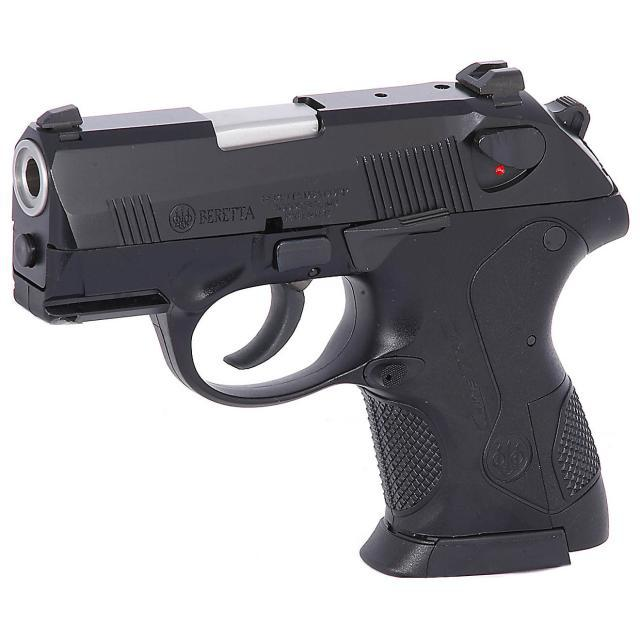Pistol: (10, 51, 640, 607)
